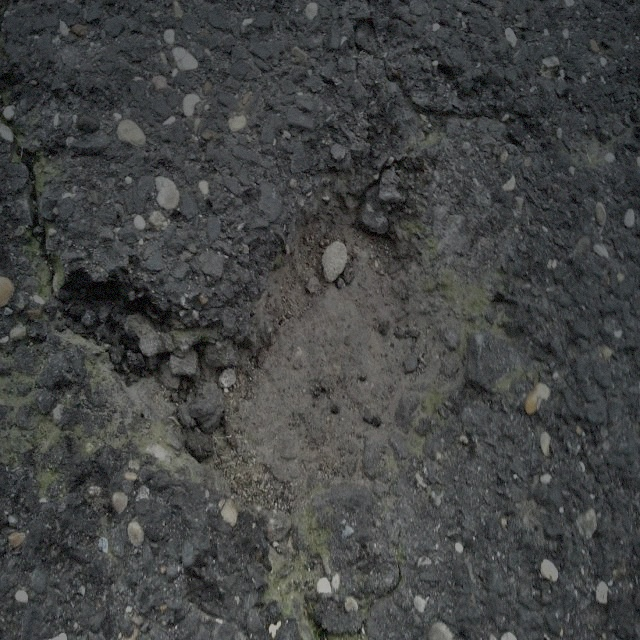pothole: (206, 175, 469, 515)
